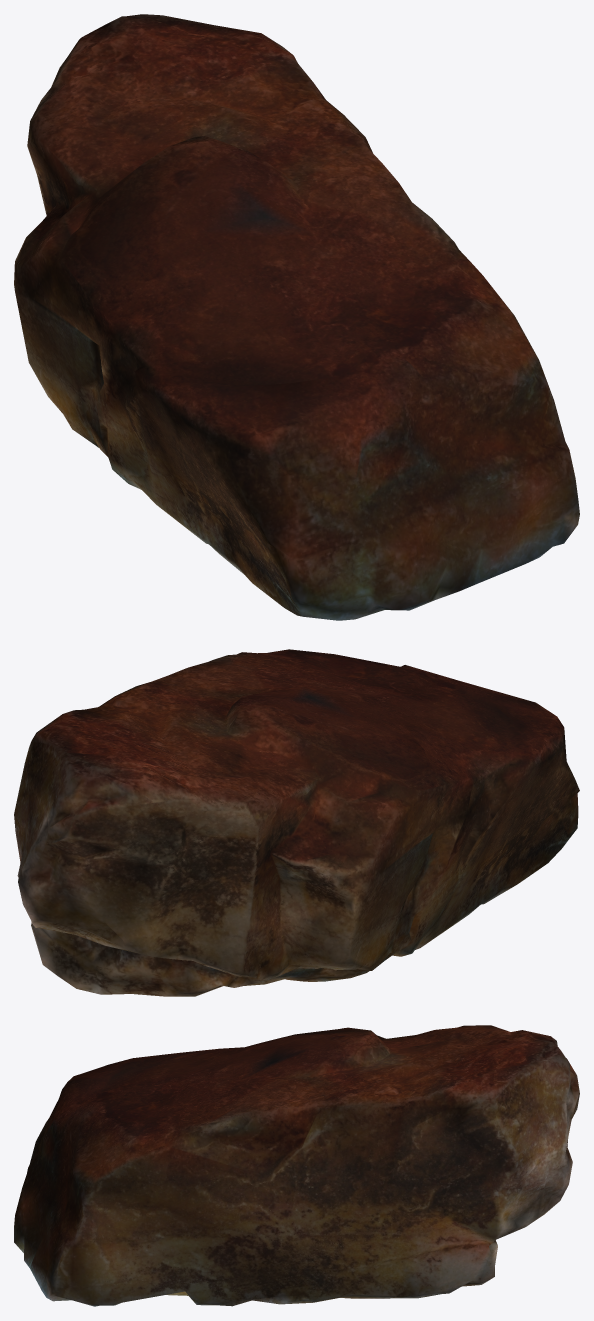
The model's file is rock2.glb.
3 views of the same model, one above another, from view 1: azimuth 30°, elevation 25°; view 2: azimuth 150°, elevation 25°; view 3: azimuth 270°, elevation 25° (orthographic). The views are drawn at different scales.
Parts seen in each view (by area): view 1: rock_07; view 2: rock_07; view 3: rock_07.
Part boxes in pixels (x1,y1,x2,y2): rock_07: [14, 14, 579, 620]; rock_07: [14, 649, 579, 996]; rock_07: [14, 1025, 579, 1306].
Bounding box in the file's own units: 0.1679 × 0.1434 × 0.3198.
1 material, 1 textured.
